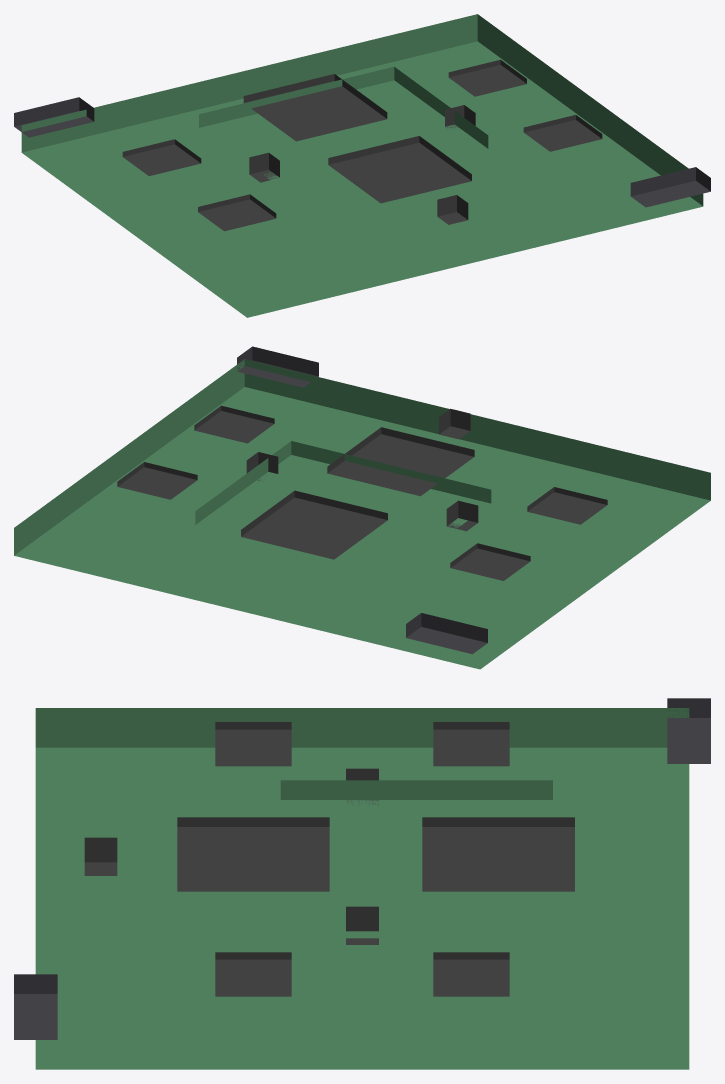
File: mainboard.gltf
The picture shows the model from 3 angles, top to bottom: view 1: azimuth 30°, elevation 25°; view 2: azimuth 150°, elevation 25°; view 3: azimuth 270°, elevation 25°; orthographic projection. The views are drawn at different scales.
Parts seen in each view (by area): view 1: mainboard; view 2: mainboard; view 3: mainboard.
Part boxes in pixels (box(x1,y1,x2,y2)): mainboard: box(14, 14, 710, 317); mainboard: box(14, 346, 710, 669); mainboard: box(14, 698, 710, 1069).
Size of the model in its own units: 0.14 by 0.013 by 0.128.
